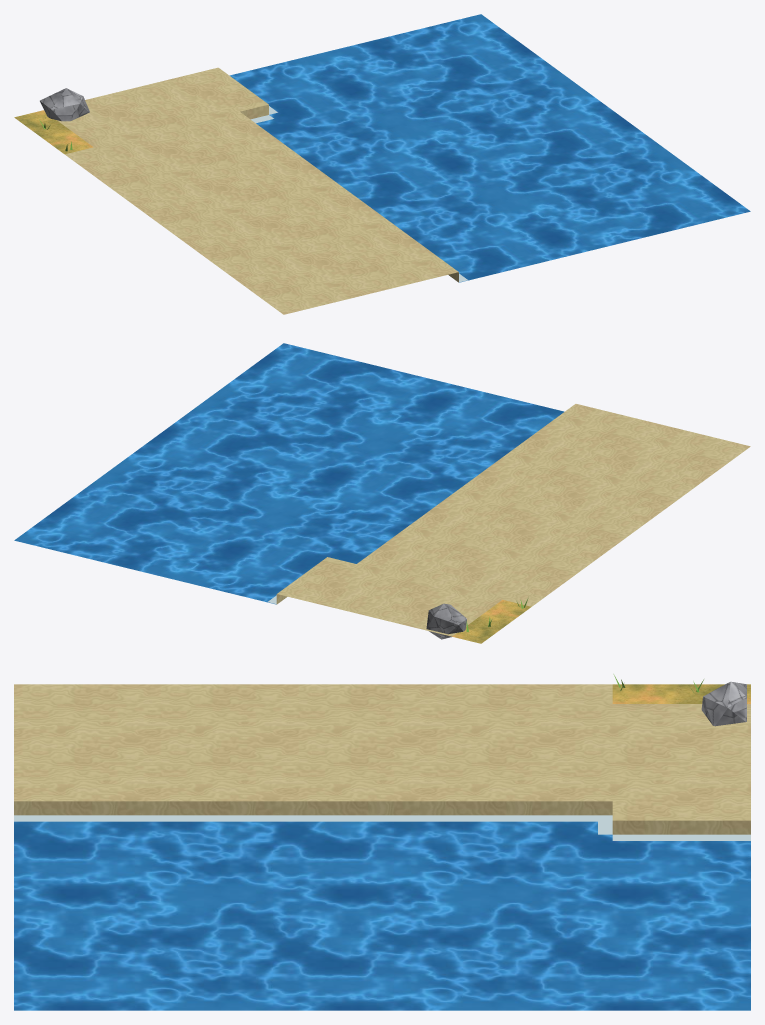
Rendered from chunk_11_8.glb.
The picture shows the model from 3 angles, top to bottom: view 1: azimuth 30°, elevation 25°; view 2: azimuth 150°, elevation 25°; view 3: azimuth 270°, elevation 25°; orthographic projection. The views are drawn at different scales.
Visible parts, largest first — view 1: chunk_11_8; view 2: chunk_11_8; view 3: chunk_11_8.
Boxes of the visible parts, x1,y1,x2,y2 form: chunk_11_8: [14, 14, 750, 314]; chunk_11_8: [14, 343, 750, 643]; chunk_11_8: [14, 674, 750, 1010].
Bounding box in the file's own units: 16 × 1.19 × 16.
6 materials, 4 textured.
